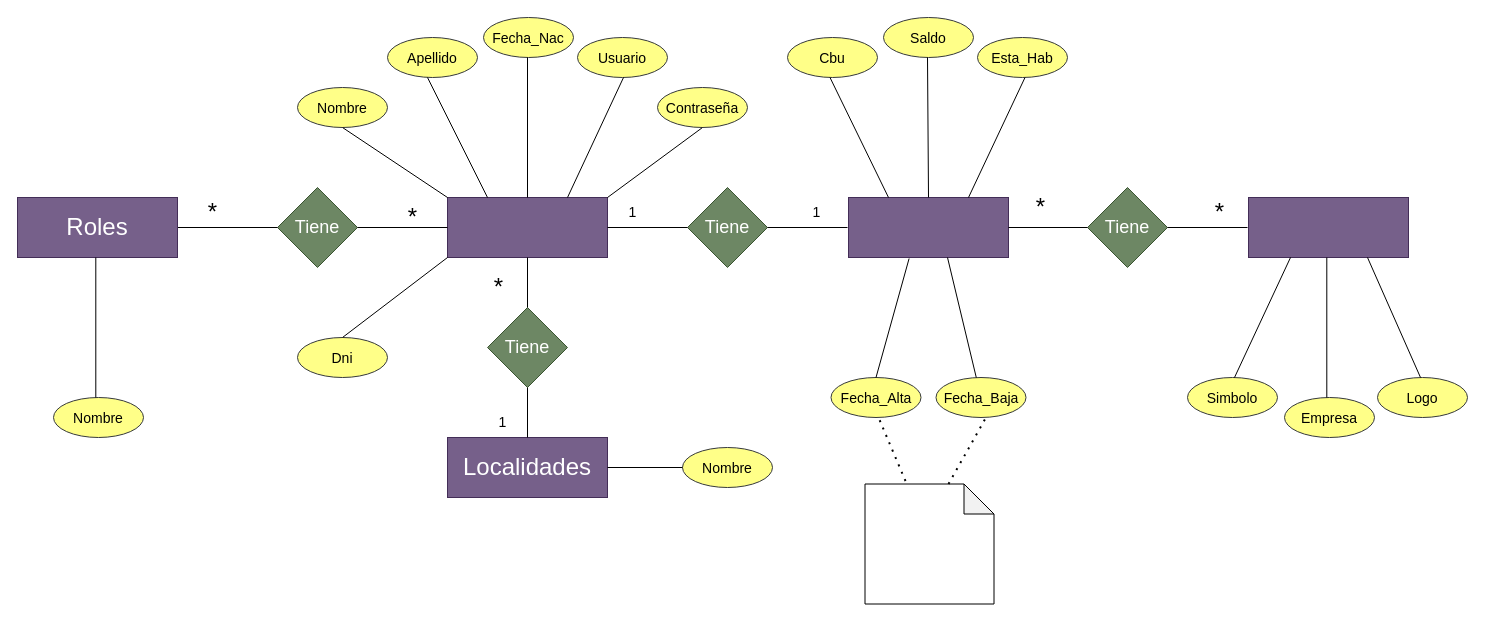
Image size: 1485x622. Some labels were removed from this diagram. Each missing label, with the centre of its shape:
Acciones: pixel 1328 227
Cuentas: pixel 928 227
Estos atributos están presentes en todas las entidades.: pixel 929 543
Personas: pixel 527 227
